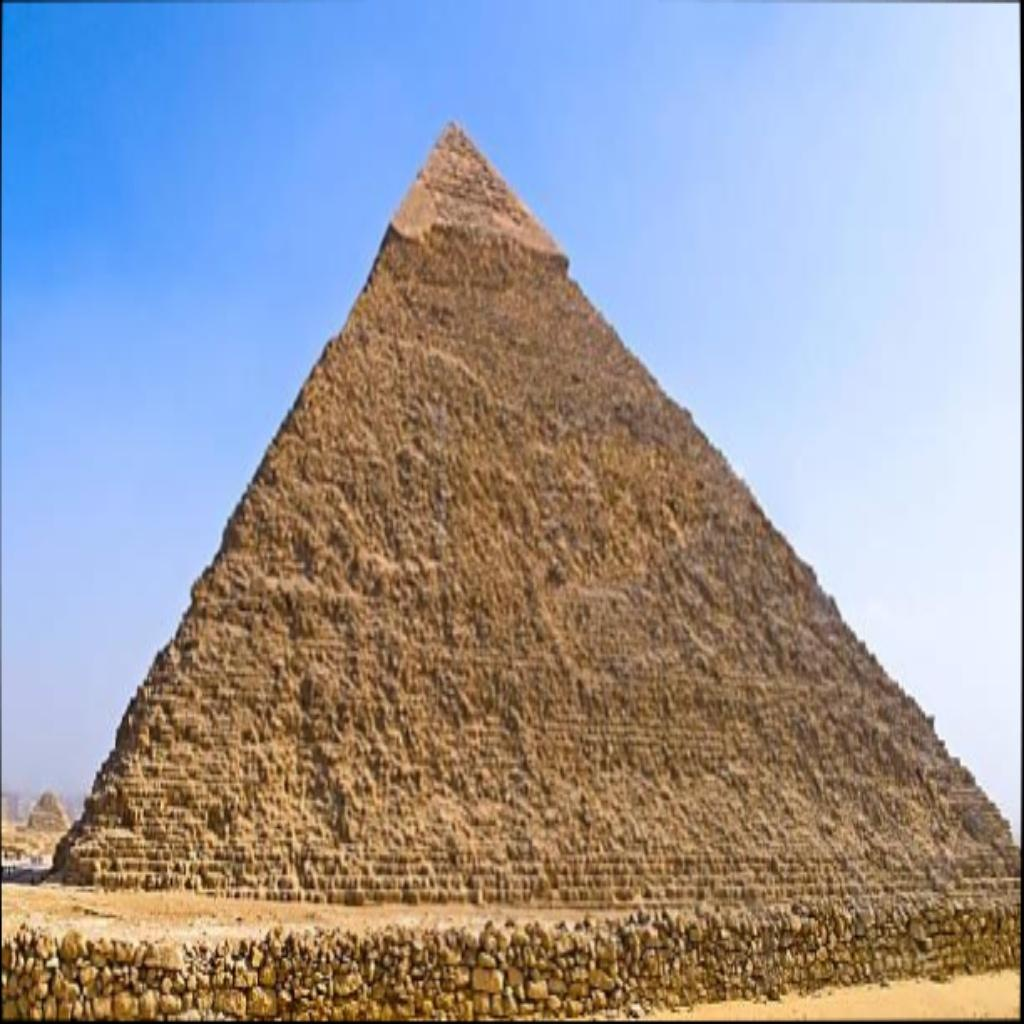Great Pyramids of Giza: (40, 114, 1017, 924)
